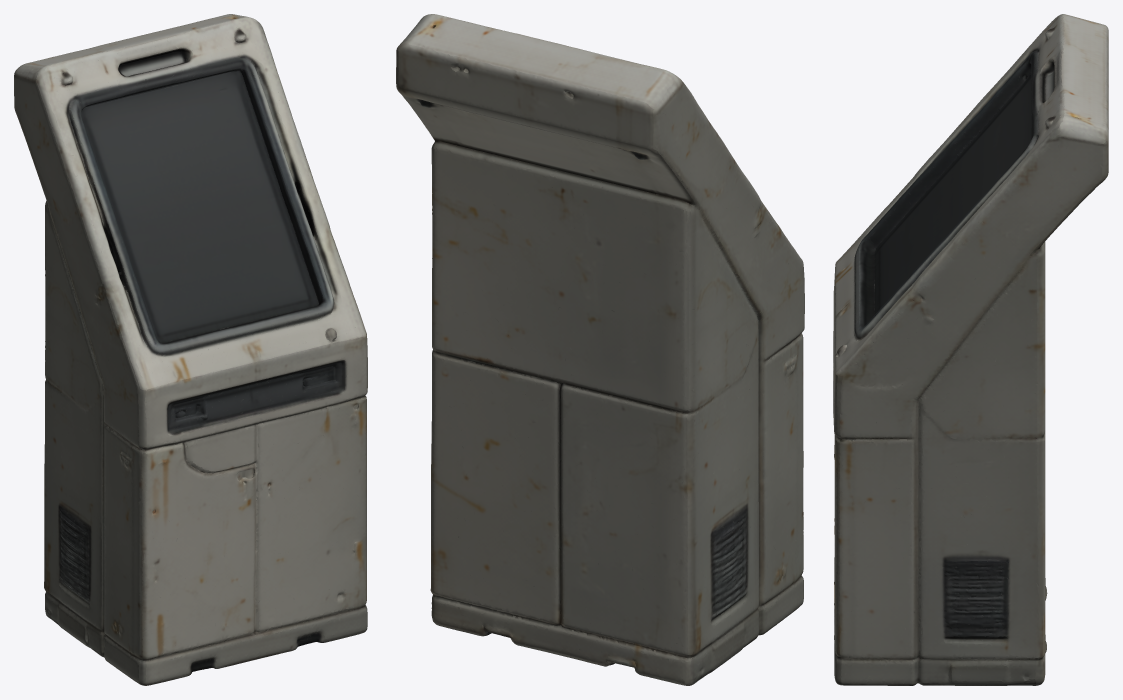
The model's file is street_terminal.glb.
3 renders of one model, left to right at view 1: azimuth 30°, elevation 25°; view 2: azimuth 150°, elevation 25°; view 3: azimuth 270°, elevation 25°, orthographic. The views are drawn at different scales.
Visible parts, largest first — view 1: world; view 2: world; view 3: world.
Part boxes in pixels (left/top/right/bottom): world: left=14, top=14, right=367, bottom=685; world: left=396, top=14, right=804, bottom=685; world: left=833, top=14, right=1108, bottom=685.
Size of the model in its own units: 0.6324 by 1.4 by 0.6197.
Materials: 1 (1 with a texture image).
